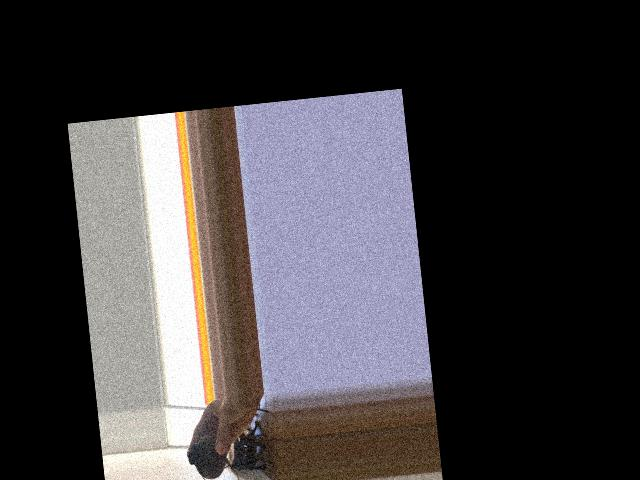beet: (185, 432, 241, 480)
